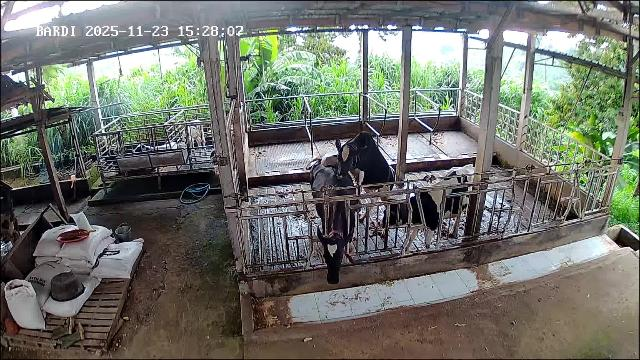mounting: (321, 131, 396, 224)
